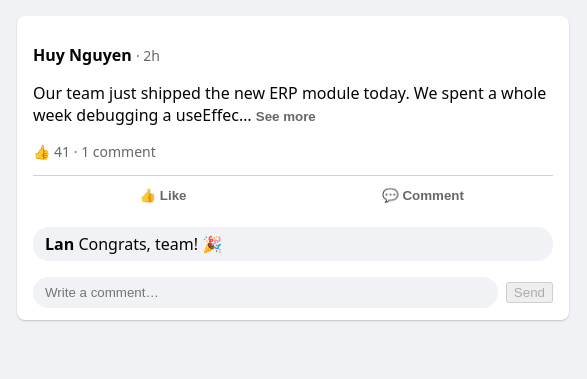
Test case: PostCard › gửi bình luận: hiện trong danh sách, ô nhập được xoá, số bình luận tăng
The image size is (587, 379).
In the field labelled "Write a comment": [265, 292] box [33,277,498,308], type "Quá đỉnh"
Then press Enter
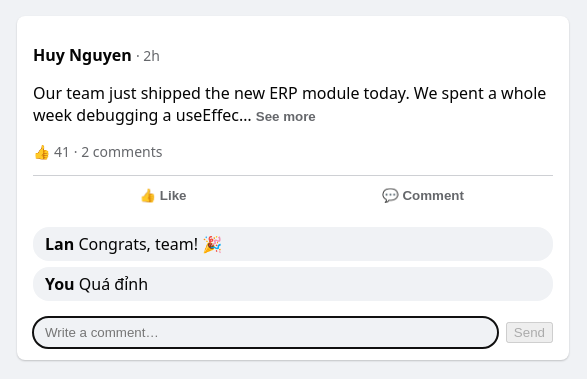
expect the field labelled "Write a comment" is empty: met, box [33,317,498,348]
expect the list item "Quá đỉnh" is shown: met, box [79,273,148,295]
expect the text with test id "summary" shows "2 comments": met, box [33,142,162,161]
